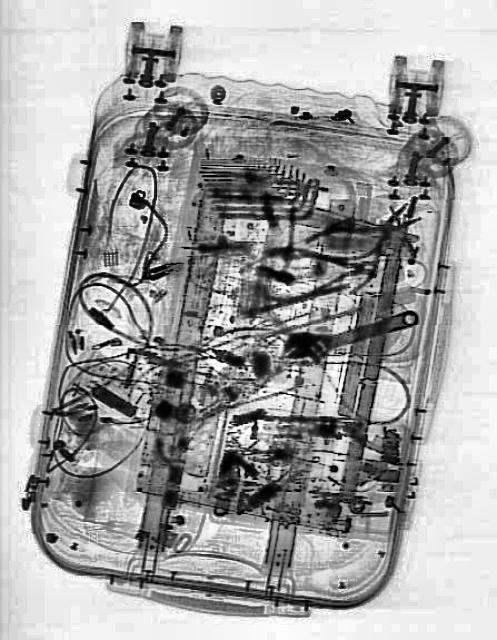Pliers: (302, 179, 432, 305), (260, 236, 374, 306)
Wrench: (284, 296, 420, 368)
